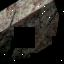Goosegrass: (0, 1, 63, 64)
